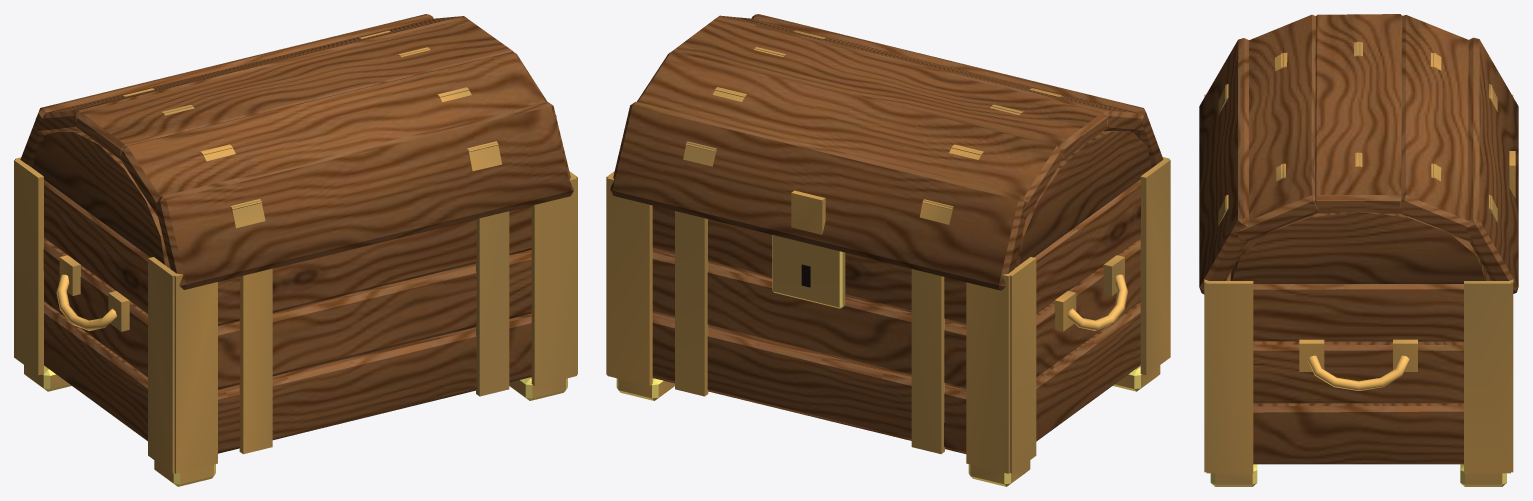
Rendered from reward_coffer.glb.
The picture shows the model from 3 angles, left to right: view 1: azimuth 30°, elevation 25°; view 2: azimuth 150°, elevation 25°; view 3: azimuth 270°, elevation 25°; orthographic projection. The views are drawn at different scales.
Parts seen in each view (by area): view 1: CofferBodyMesh, CofferLidMesh; view 2: CofferBodyMesh, CofferLidMesh; view 3: CofferLidMesh, CofferBodyMesh.
Part boxes in pixels (<box>): CofferBodyMesh: <box>14,157,577,486</box>; CofferLidMesh: <box>20,14,573,289</box>; CofferBodyMesh: <box>606,157,1170,486</box>; CofferLidMesh: <box>610,14,1163,290</box>; CofferLidMesh: <box>1199,14,1518,294</box>; CofferBodyMesh: <box>1204,94,1513,486</box>.
Size of the model in its own units: 0.6403 by 0.414 by 0.4093.
2 materials, 1 textured.
